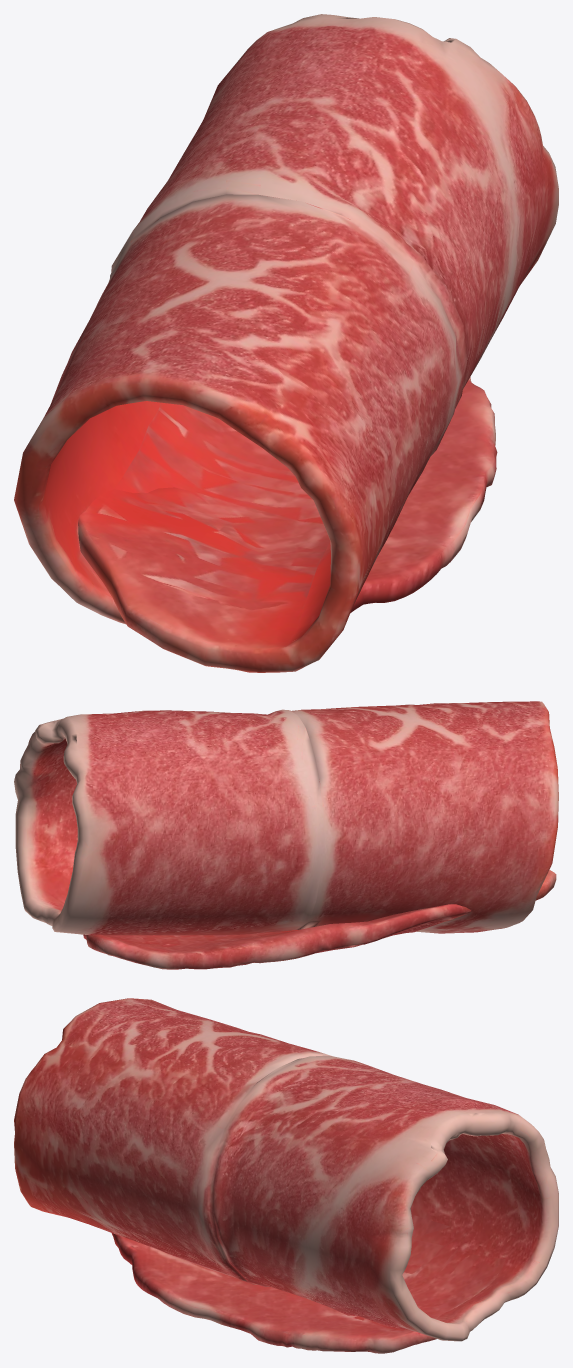
Rendered from optimized_glb.glb.
The picture shows the model from 3 angles, top to bottom: view 1: azimuth 30°, elevation 25°; view 2: azimuth 150°, elevation 25°; view 3: azimuth 270°, elevation 25°; orthographic projection. The views are drawn at different scales.
Visible parts, largest first — view 1: Beef Slice; view 2: Beef Slice; view 3: Beef Slice.
Part boxes in pixels (bbox=[...]): Beef Slice: bbox=[14, 14, 558, 672]; Beef Slice: bbox=[14, 701, 558, 969]; Beef Slice: bbox=[14, 998, 558, 1353].
Size of the model in its own units: 0.9707 by 0.4863 by 0.998.
Materials: 1 (1 with a texture image).
